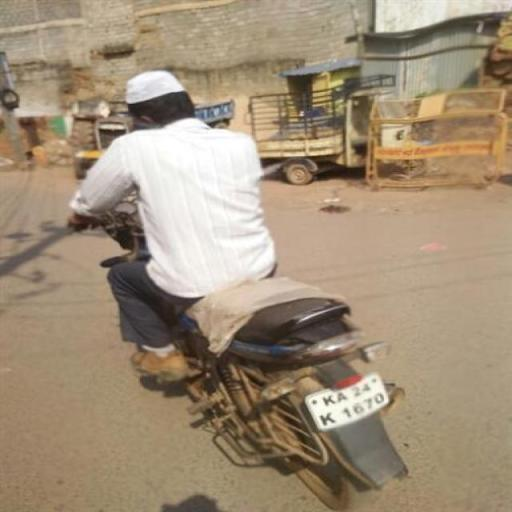using mobile: (128, 118, 164, 134)
